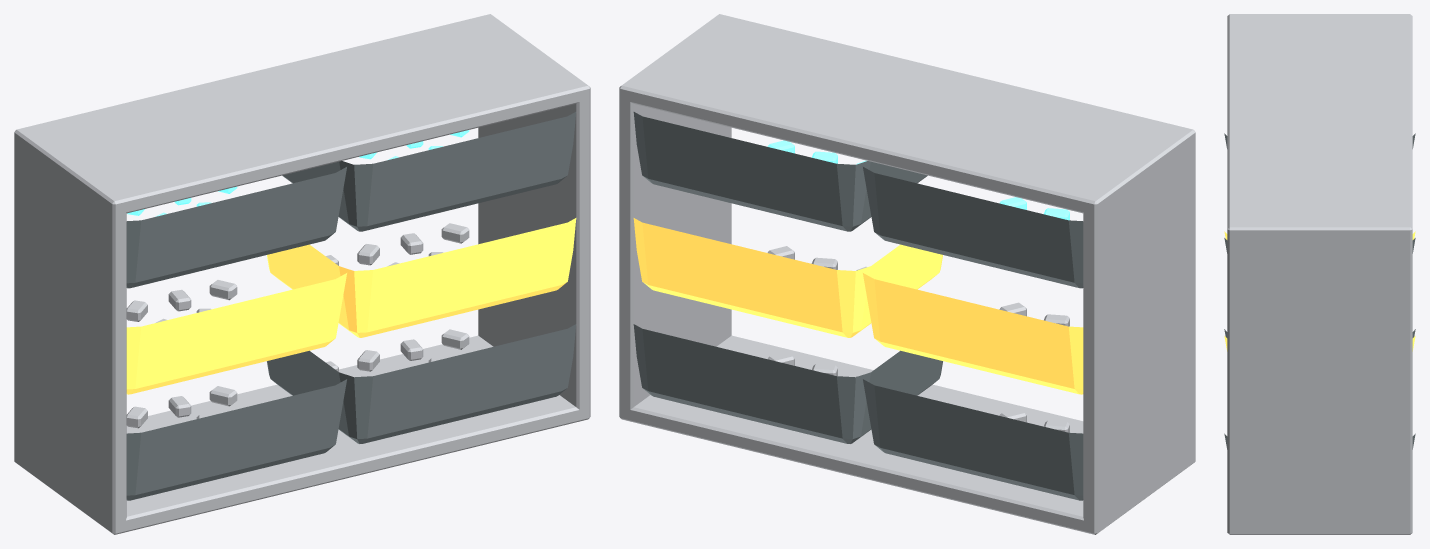
File: cyberpunk-apartment-and-neon-block-parts-tray-stack-7e38adf8__37827.glb
The picture shows the model from 3 angles, left to right: view 1: azimuth 30°, elevation 25°; view 2: azimuth 150°, elevation 25°; view 3: azimuth 270°, elevation 25°; orthographic projection. The views are drawn at different scales.
Visible parts, largest first — view 1: parts-tray-stack; view 2: parts-tray-stack; view 3: parts-tray-stack.
Part boxes in pixels (left/top/right/bottom): parts-tray-stack: left=14, top=14, right=590, bottom=534; parts-tray-stack: left=619, top=14, right=1195, bottom=534; parts-tray-stack: left=1224, top=14, right=1415, bottom=534.
Bounding box in the file's own units: 0.66 × 0.44 × 0.248.
